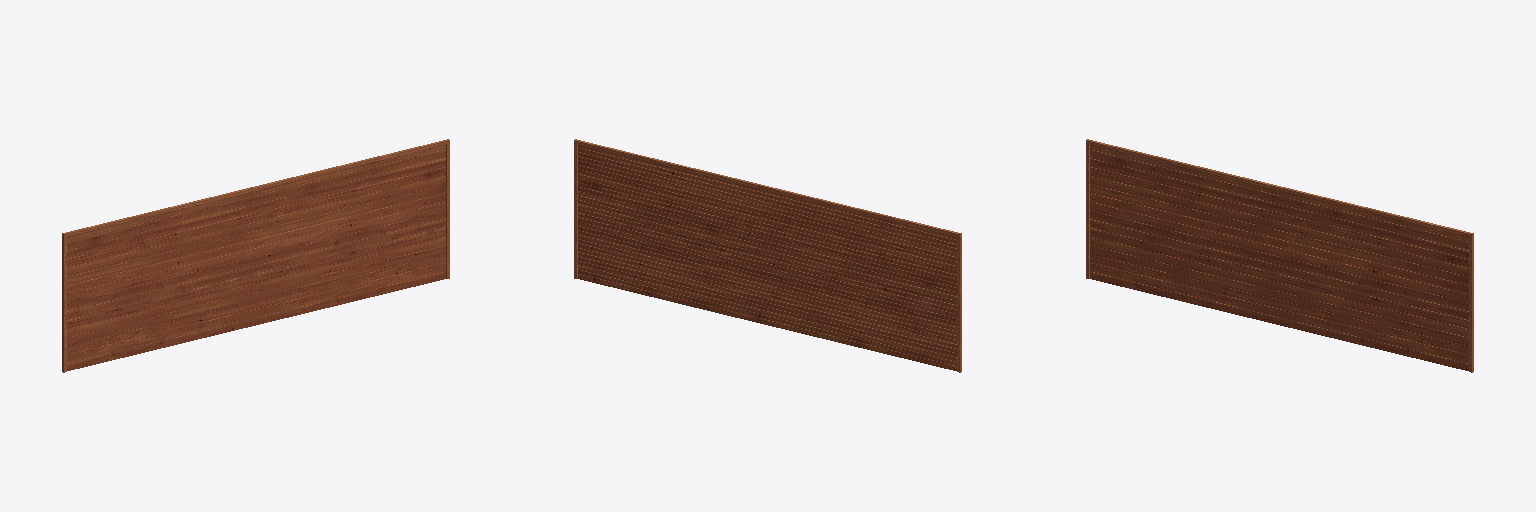
3 views of the same model, side by side, from view 1: azimuth 30°, elevation 25°; view 2: azimuth 150°, elevation 25°; view 3: azimuth 330°, elevation 25° (orthographic).
Visible parts, largest first — view 1: wall_planks, trim_top, trim_left, trim_right; view 2: wall_planks, trim_top, trim_left, trim_right; view 3: wall_planks, trim_top, trim_right, trim_left.
Boxes of the visible parts, <box> form: wall_planks: <box>67,145,445,370</box>; trim_top: <box>62,139,449,237</box>; trim_left: <box>62,237,66,372</box>; trim_right: <box>446,144,449,278</box>; wall_planks: <box>578,145,956,370</box>; trim_top: <box>574,139,961,237</box>; trim_left: <box>957,237,961,372</box>; trim_right: <box>574,144,577,278</box>; wall_planks: <box>1090,145,1468,370</box>; trim_top: <box>1086,139,1473,237</box>; trim_right: <box>1469,237,1473,372</box>; trim_left: <box>1086,144,1089,278</box>.
Size of the model in its own units: 276 by 94.5 by 1.82.
2 materials, 2 textured.